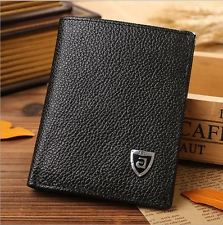monedero: (27, 16, 196, 210)
